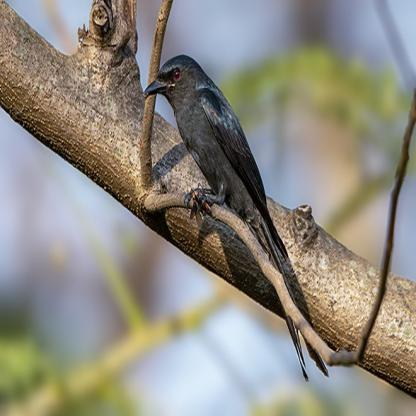Burung: (143, 53, 331, 386)
